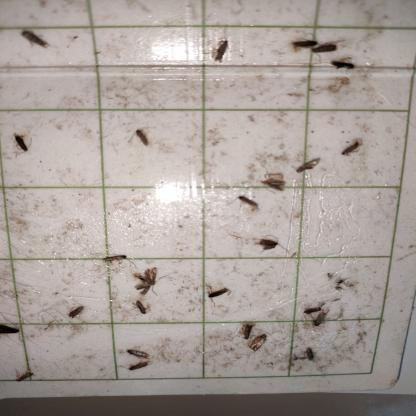prays_oleae: (246, 223, 290, 265), (121, 122, 157, 166), (92, 244, 137, 279), (259, 158, 287, 206), (205, 32, 242, 66), (131, 257, 163, 296), (292, 147, 323, 185), (19, 22, 47, 62), (0, 307, 26, 349), (233, 186, 261, 220), (332, 56, 358, 90), (291, 33, 319, 62), (248, 326, 269, 362), (298, 335, 320, 369), (312, 36, 343, 60), (61, 299, 88, 326), (11, 132, 32, 166), (204, 282, 232, 307), (340, 130, 364, 158), (10, 364, 38, 385), (298, 296, 325, 317), (124, 360, 150, 378), (241, 314, 255, 346), (123, 341, 150, 357), (314, 309, 328, 337), (134, 295, 150, 317)
